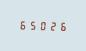five: (28, 19, 37, 30)
six: (18, 19, 27, 30), (58, 20, 67, 31)
two: (48, 20, 57, 31)
zero: (38, 19, 47, 31)
